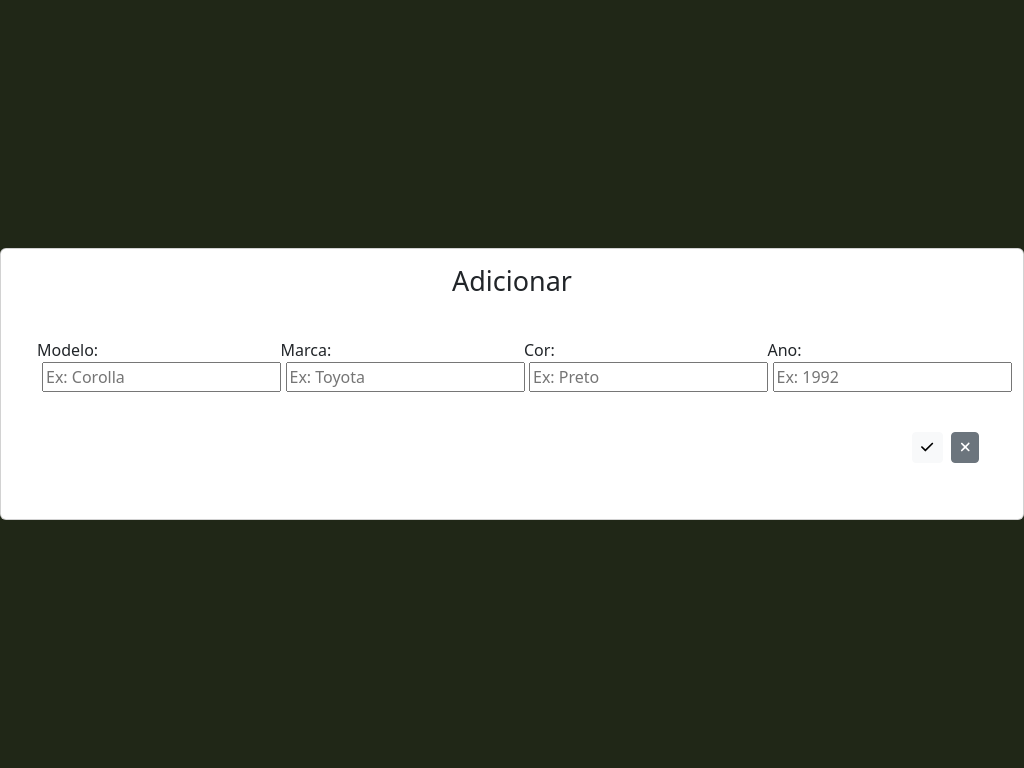
Test case: Teste CarForm › Verifica validação de todos os campos devem ser preenchidos
Click the button titled "Adicionar Carro": [927, 447] box [912,432,943,463]
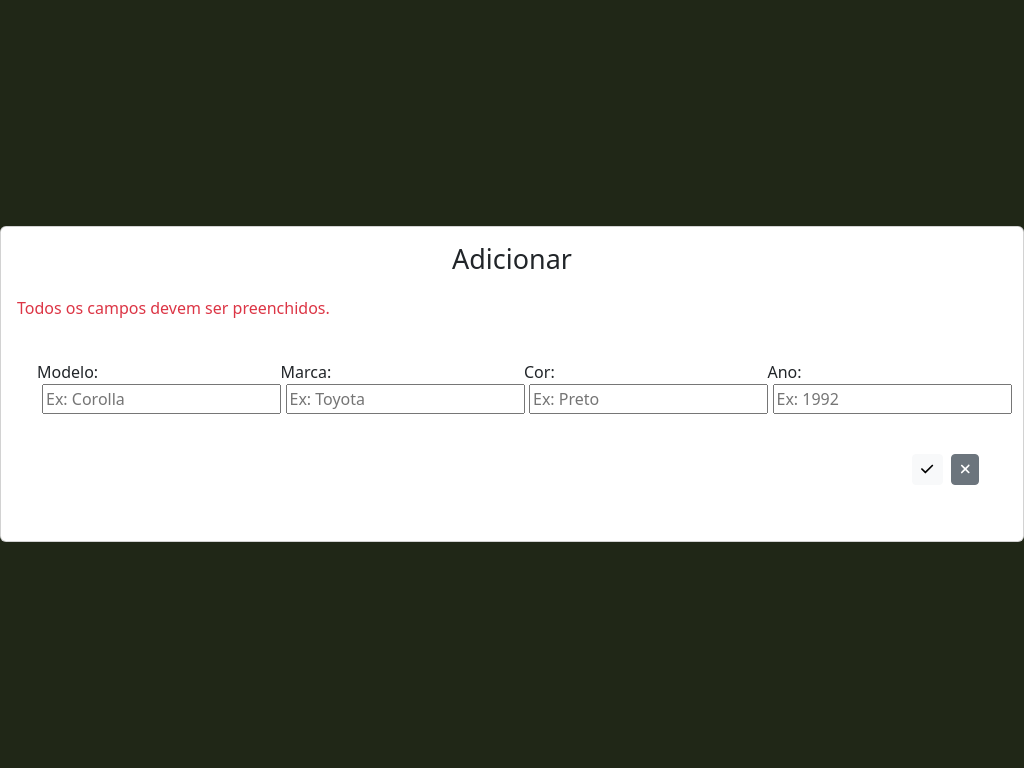
Expected: the text "Todos os campos devem ser preenchidos." is shown, [17,297,330,319]
